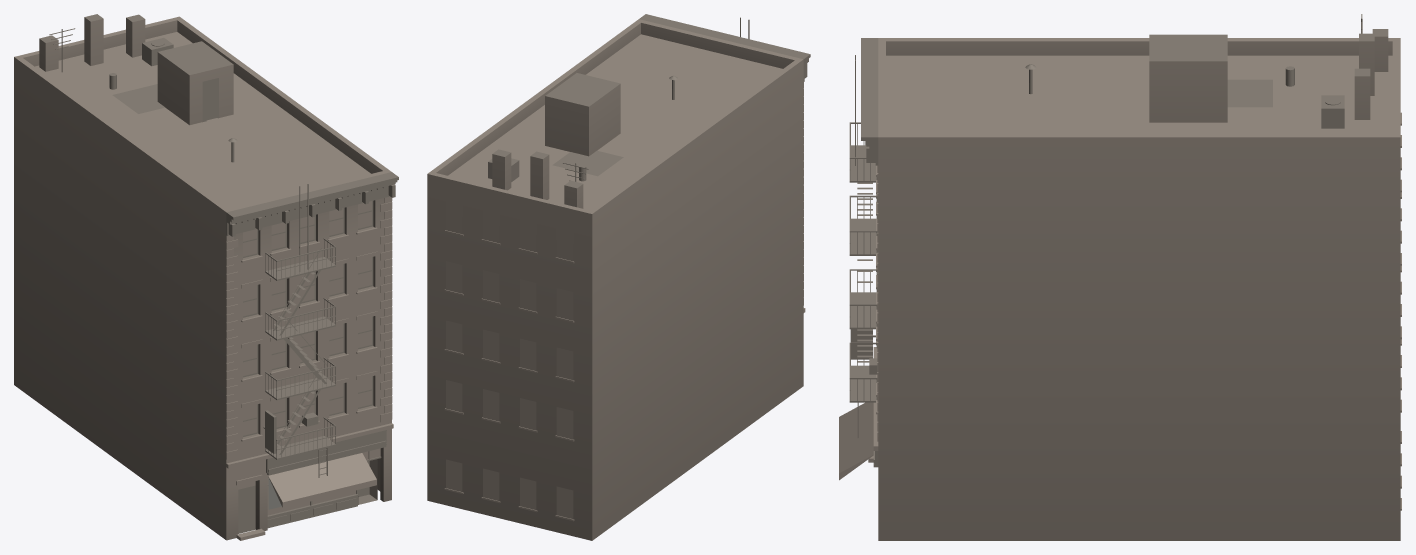
The model's file is biz_bar_blue_lantern.glb.
The picture shows the model from 3 angles, left to right: view 1: azimuth 30°, elevation 25°; view 2: azimuth 150°, elevation 25°; view 3: azimuth 270°, elevation 25°; orthographic projection. The views are drawn at different scales.
Visible parts, largest first — view 1: biz_bar_blue_lantern; view 2: biz_bar_blue_lantern; view 3: biz_bar_blue_lantern.
Part boxes in pixels (x1,y1,x2,y2): biz_bar_blue_lantern: (14, 14, 398, 540); biz_bar_blue_lantern: (427, 14, 810, 540); biz_bar_blue_lantern: (839, 14, 1401, 540).
Size of the model in its own units: 9 by 19.05 by 21.55.
